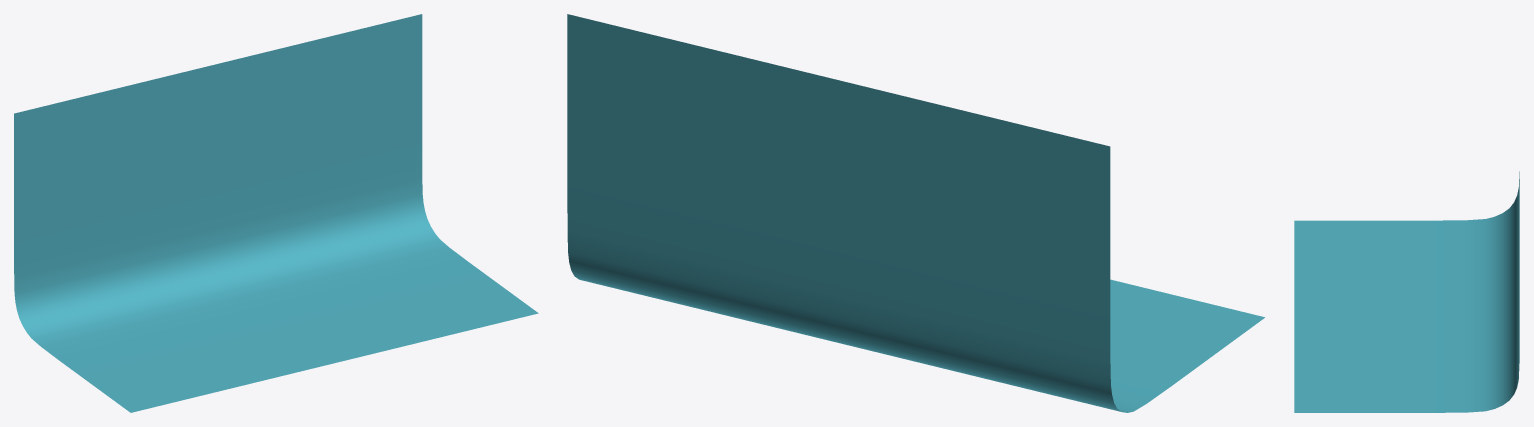
File: backdrop.fbx
3 views of the same model, side by side, from view 1: azimuth 30°, elevation 25°; view 2: azimuth 150°, elevation 25°; view 3: azimuth 270°, elevation 25° (orthographic). The views are drawn at different scales.
Parts seen in each view (by area): view 1: backdrop_showcase; view 2: backdrop_showcase; view 3: backdrop_showcase.
Part boxes in pixels (left/top/right/bottom): backdrop_showcase: left=14, top=14, right=538, bottom=412; backdrop_showcase: left=567, top=14, right=1264, bottom=412; backdrop_showcase: left=1294, top=171, right=1519, bottom=412.
Size of the model in its own units: 200 by 99.08 by 100.
